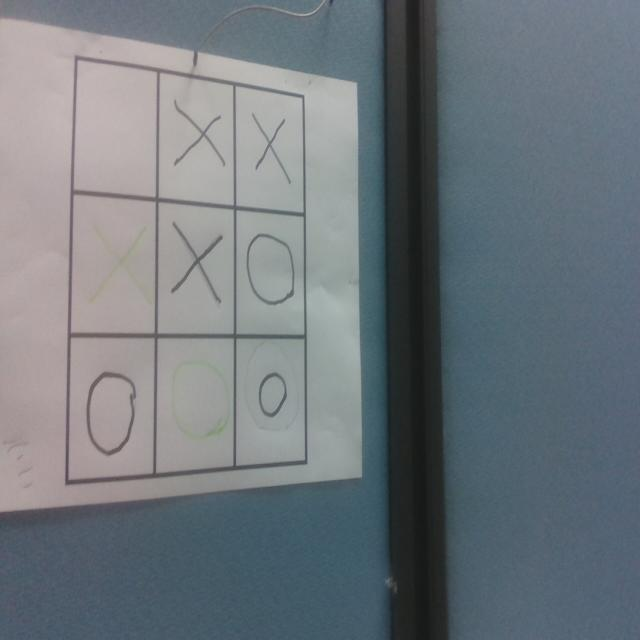null: (74, 60, 157, 201)
o: (172, 357, 230, 443), (84, 370, 137, 457), (245, 230, 295, 307), (257, 370, 288, 419)
table: (69, 48, 306, 479)
x: (93, 224, 148, 311), (173, 224, 223, 307), (174, 102, 226, 173), (253, 113, 290, 186)
